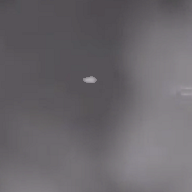Target: (83, 76, 97, 83)
